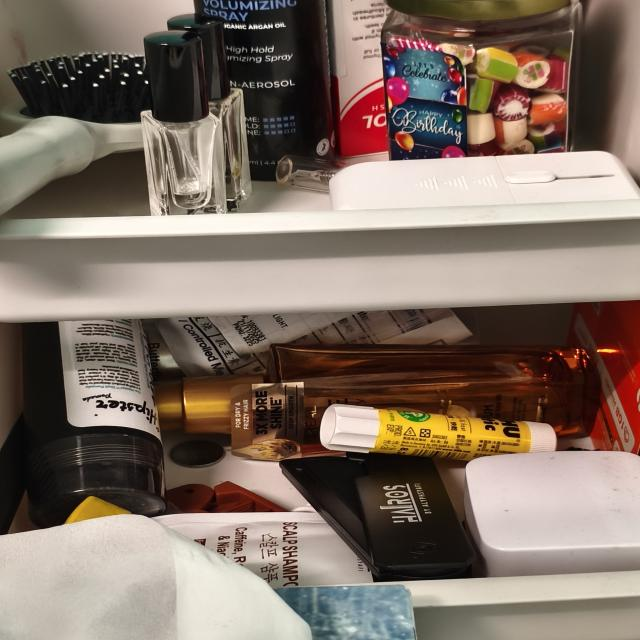glue: (320, 404, 557, 462)
